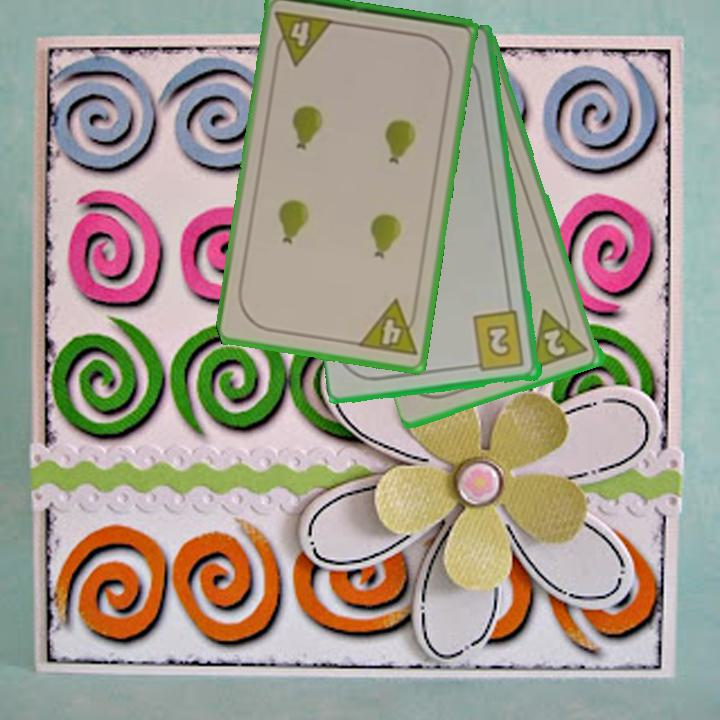2b: (466, 308, 528, 375)
2p: (540, 326, 570, 360)
4p: (354, 296, 422, 360), (271, 7, 337, 68)
